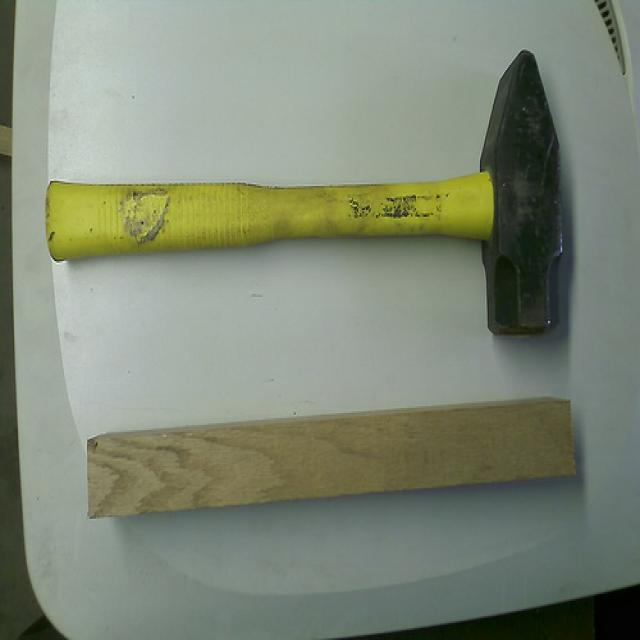hammer: (31, 38, 580, 364)
